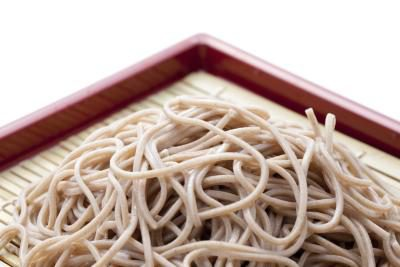Soba: (4, 95, 398, 267)
